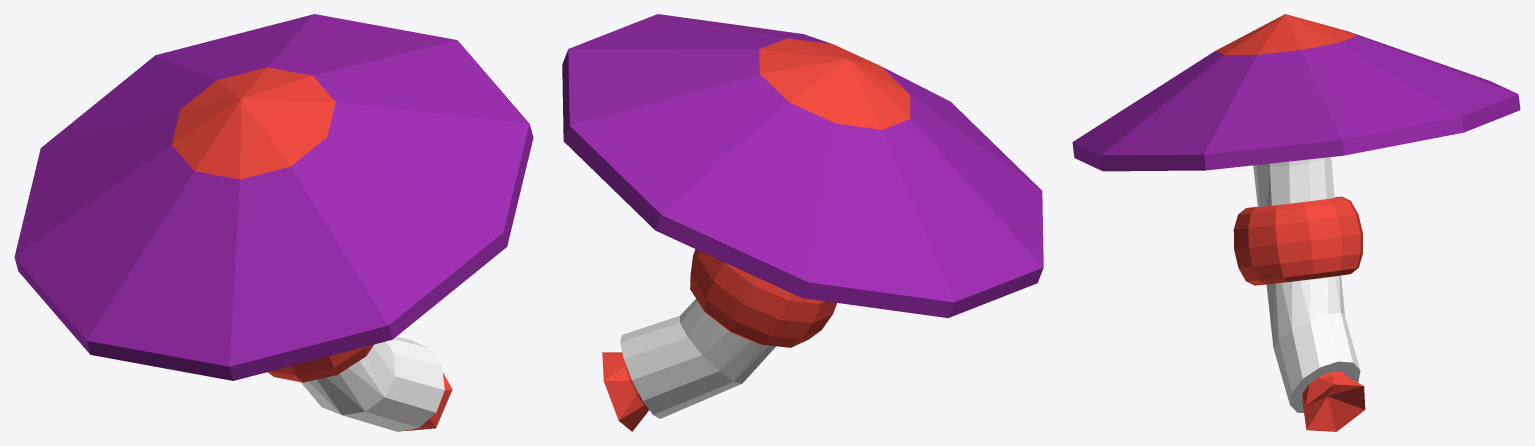
Rendered from cogumelo.fbx.
3 views of the same model, side by side, from view 1: azimuth 30°, elevation 25°; view 2: azimuth 150°, elevation 25°; view 3: azimuth 270°, elevation 25° (orthographic). The views are drawn at different scales.
Visible parts, largest first — view 1: group_938930532; view 2: group_938930532; view 3: group_938930532.
Part boxes in pixels (x1,y1,x2,y2): group_938930532: (14,14,533,431); group_938930532: (562,14,1043,431); group_938930532: (1072,14,1520,431).
Size of the model in its own units: 19 by 16.89 by 20.17.
